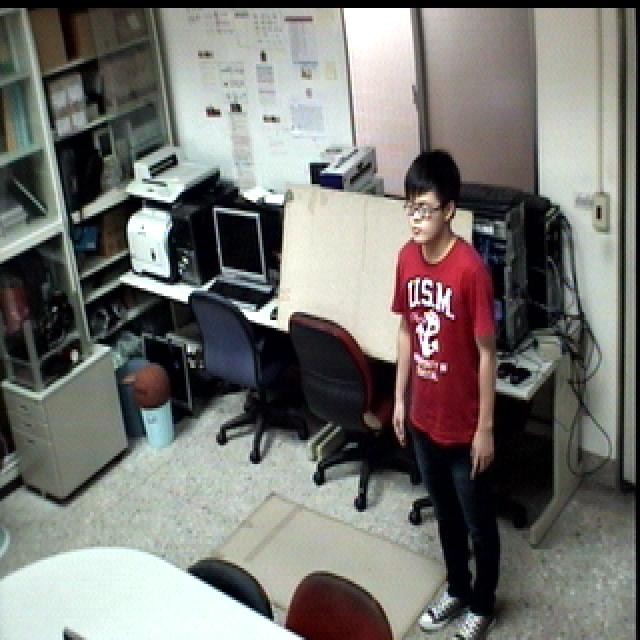stand: (380, 138, 511, 640)
